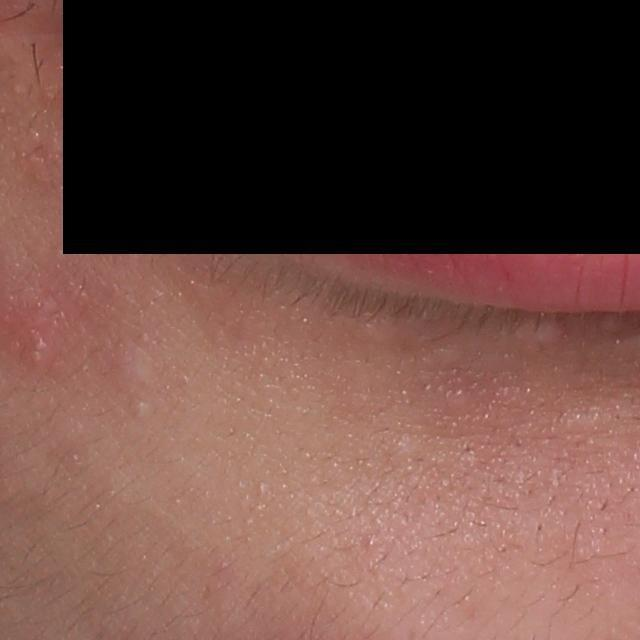comedo: (130, 397, 151, 422)
hypertrophic_scar: (505, 317, 568, 349)
